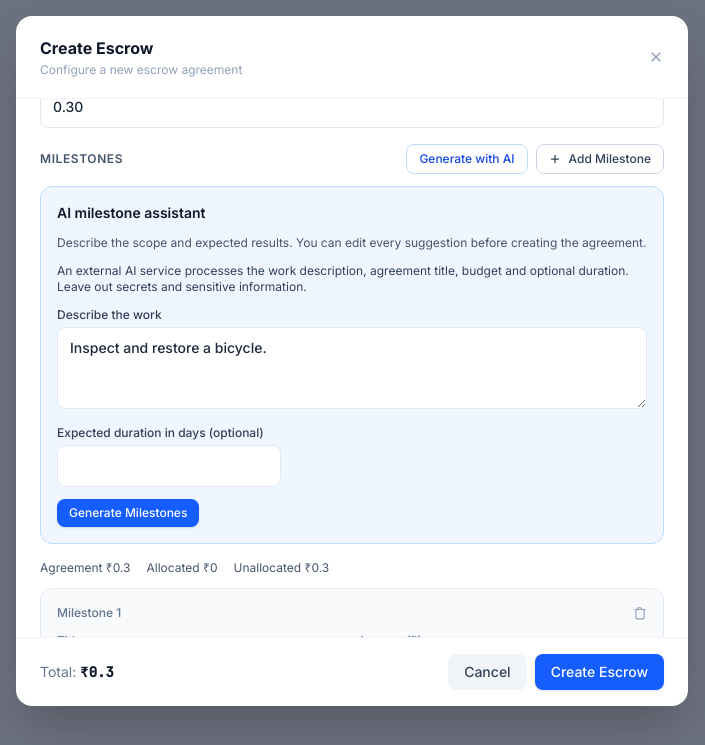
it: AI milestone assistant › preserves the existing draft when the suggested amounts do not balance
Earlier steps of the test are not shown.
(page scrolled)
Click the button "Generate Milestones": click(128, 513) [57, 499, 199, 527]
(page scrolled)
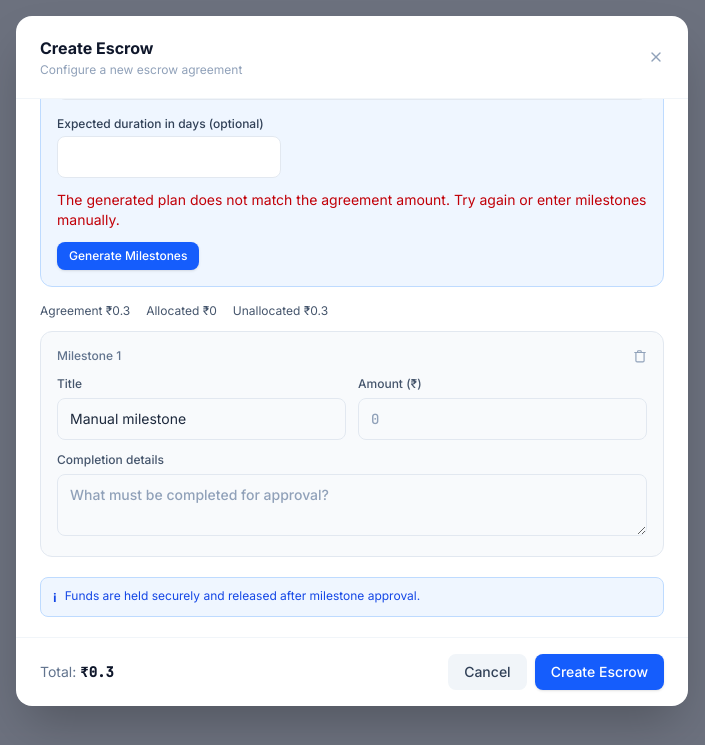
Expected: the message shows "The generated plan does not match the agreement amount.", [57, 191, 646, 228]
